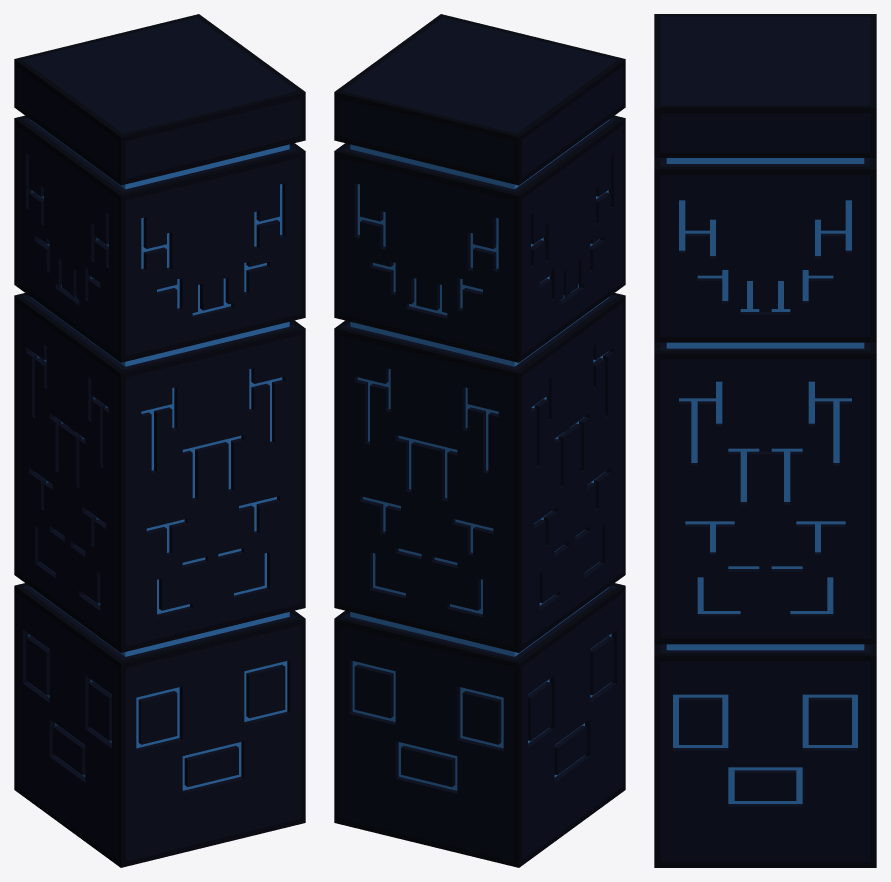
The model's file is Blue Trial Altar.fbx.
The picture shows the model from 3 angles, left to right: view 1: azimuth 30°, elevation 25°; view 2: azimuth 150°, elevation 25°; view 3: azimuth 270°, elevation 25°; orthographic projection. The views are drawn at different scales.
Parts seen in each view (by area): view 1: Blue Trial Altar; view 2: Blue Trial Altar; view 3: Blue Trial Altar.
Boxes of the visible parts, x1,y1,x2,y2 form: Blue Trial Altar: [14, 14, 305, 867]; Blue Trial Altar: [334, 14, 625, 867]; Blue Trial Altar: [654, 14, 876, 867].
Bounding box in the file's own units: 0.72 × 0.72 × 2.72.
1 material, 1 textured.
